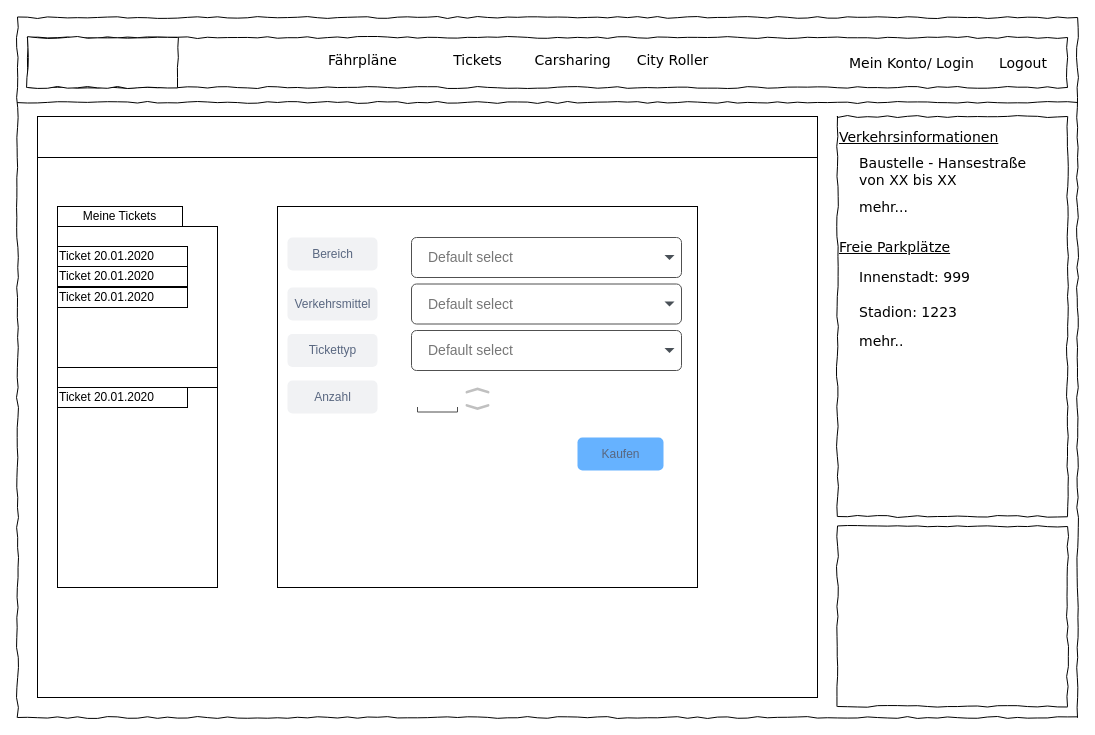
This 1095x735 diagram has some shape labels left out. The shapes that lost their labels are listed below. From the top down, each one's centre as x and y in pixels, then its label:
At pixel 102 62: "ÖPNV".
At pixel 427 137: "Tickets kaufen".
At pixel 137 377: "Monatsticket".
At pixel 952 616: "Werbung".
